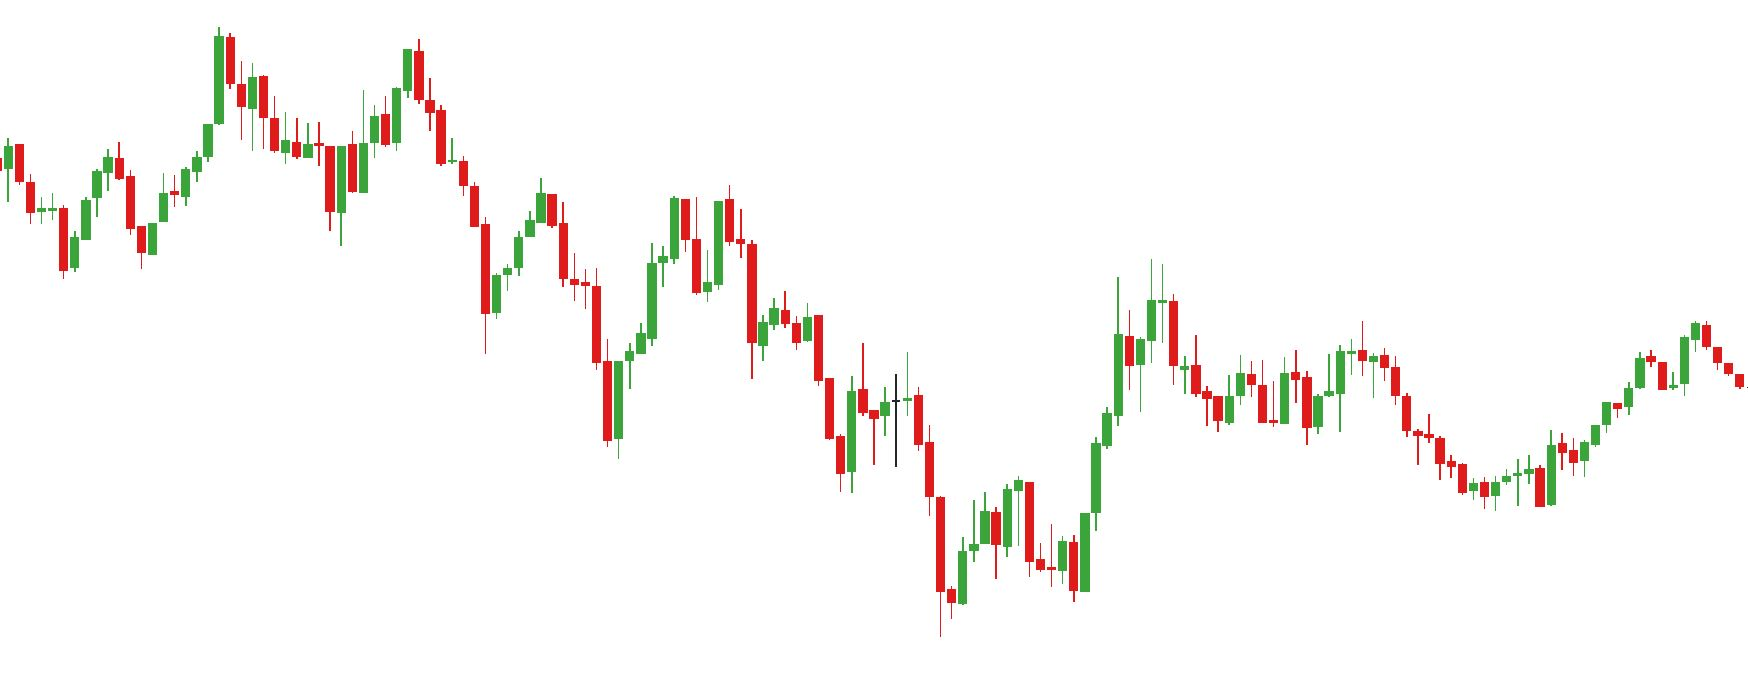sell: (855, 280, 1135, 446), (667, 177, 735, 285)
